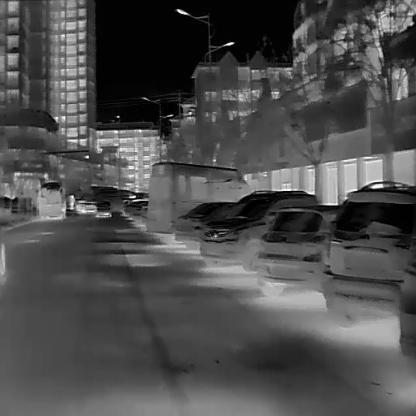car: (322, 180, 413, 329), (200, 189, 317, 273), (146, 162, 252, 243), (254, 202, 342, 296), (172, 198, 243, 250), (35, 182, 66, 219)
